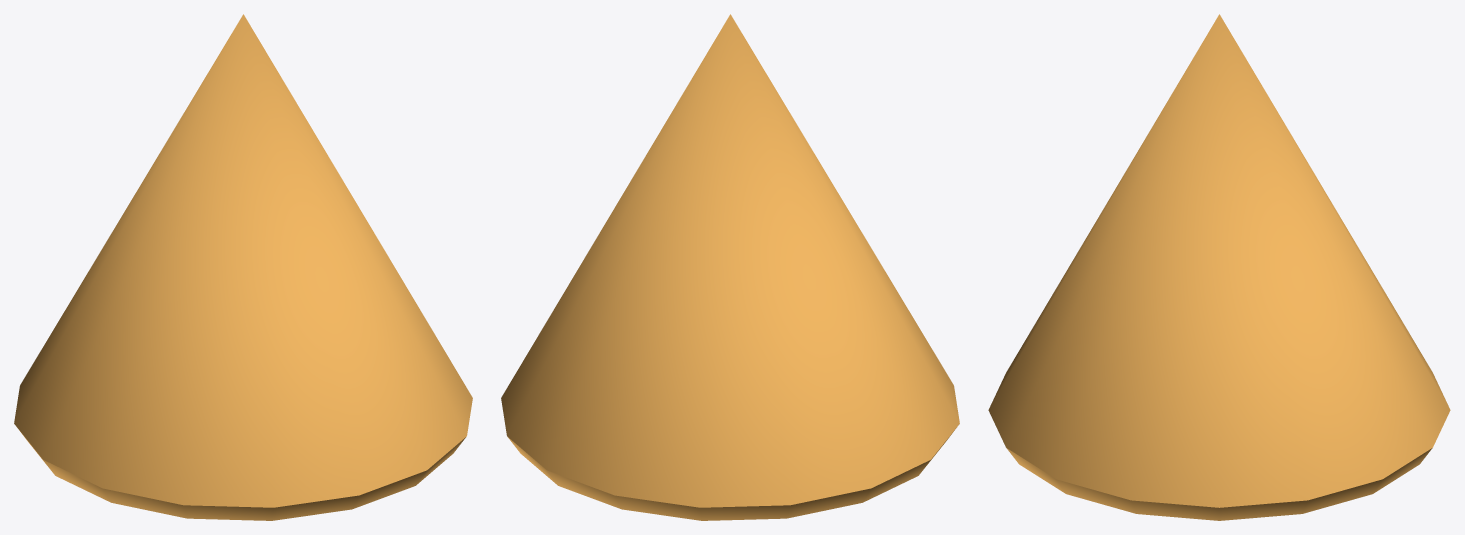
3 renders of one model, left to right at view 1: azimuth 30°, elevation 25°; view 2: azimuth 150°, elevation 25°; view 3: azimuth 270°, elevation 25°, orthographic.
Parts seen in each view (by area): view 1: Cone_01; view 2: Cone_01; view 3: Cone_01.
Boxes of the visible parts, box(x1,y1,x2,y2) form: Cone_01: box(14, 14, 472, 520); Cone_01: box(501, 14, 959, 520); Cone_01: box(988, 14, 1450, 520).
Size of the model in its own units: 303 by 300 by 303.
